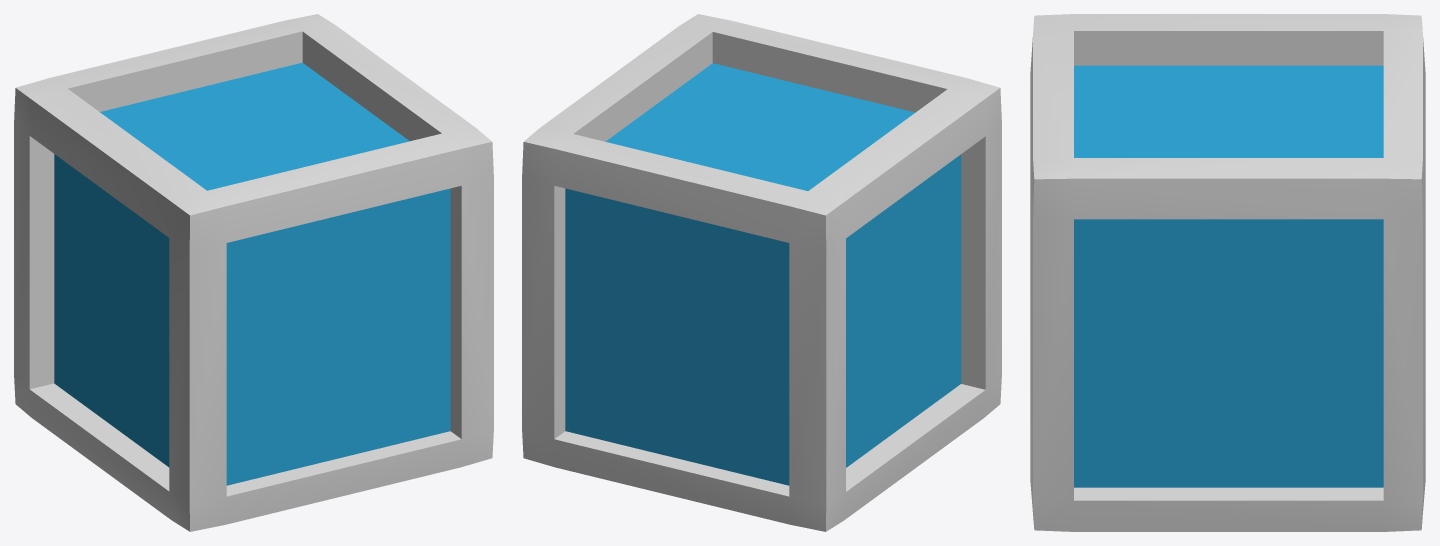
The model's file is ScienceCrate.fbx.
The picture shows the model from 3 angles, left to right: view 1: azimuth 30°, elevation 25°; view 2: azimuth 150°, elevation 25°; view 3: azimuth 270°, elevation 25°; orthographic projection. The views are drawn at different scales.
Visible parts, largest first — view 1: pCube1; view 2: pCube1; view 3: pCube1.
Part boxes in pixels (x1,y1,x2,y2): pCube1: [14, 14, 493, 531]; pCube1: [522, 14, 1001, 531]; pCube1: [1030, 14, 1425, 531].
Bounding box in the file's own units: 1.05 × 1.05 × 1.05.
